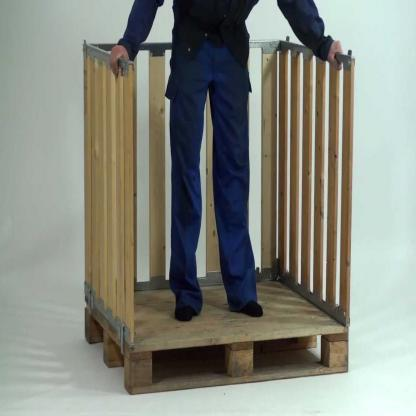BoxFace: (83, 278, 349, 395)
